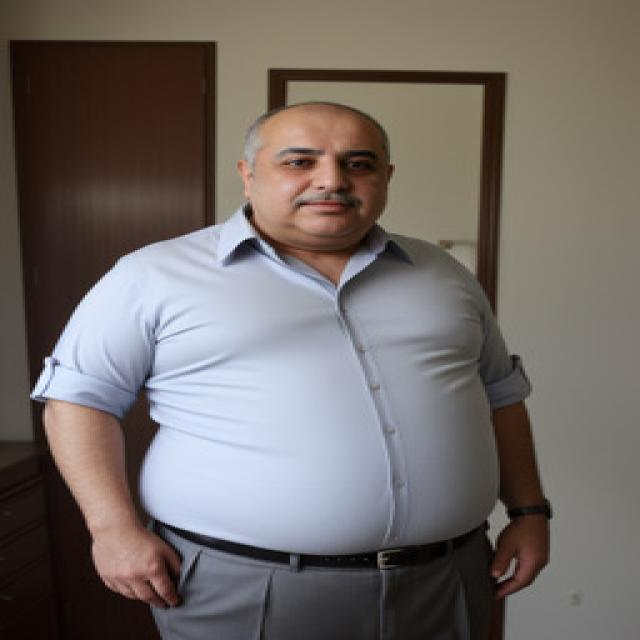Ai human 2: (26, 91, 576, 640)
